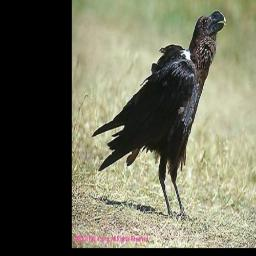Crow: (92, 10, 227, 219)
